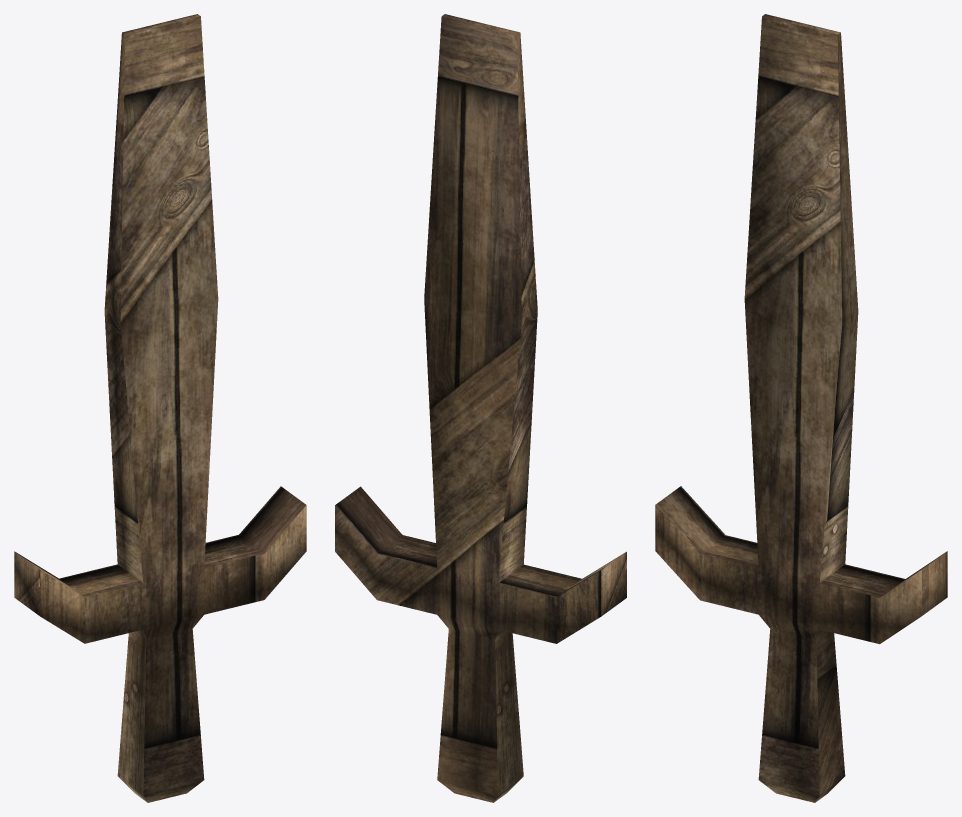
Rendered from Sword.obj.
3 views of the same model, side by side, from view 1: azimuth 30°, elevation 25°; view 2: azimuth 150°, elevation 25°; view 3: azimuth 330°, elevation 25° (orthographic).
Parts seen in each view (by area): view 1: Sword; view 2: Sword; view 3: Sword.
Part boxes in pixels (bbox=[...]): Sword: bbox=[14, 14, 306, 802]; Sword: bbox=[335, 14, 626, 802]; Sword: bbox=[655, 14, 947, 802].
Bounding box in the file's own units: 17.78 × 49.04 × 2.96.
